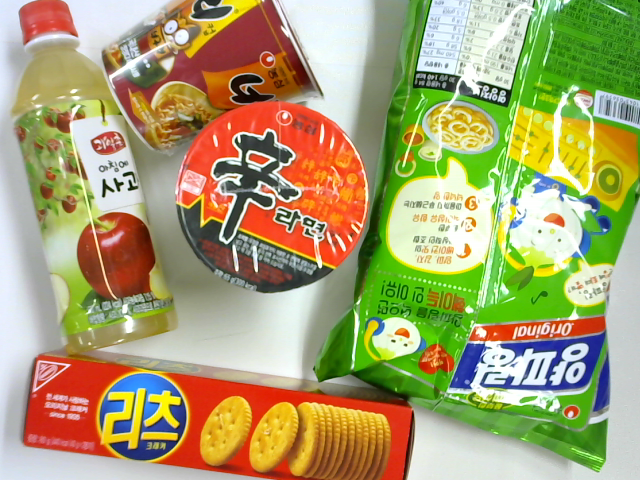Morning_Apple_500ml: (7, 1, 179, 354)
Oninon_Ring: (310, 1, 638, 472)
Raccoon: (99, 1, 327, 158)
Ritz_Cracker: (20, 348, 416, 480)
Sinramen_small: (174, 100, 371, 292)
